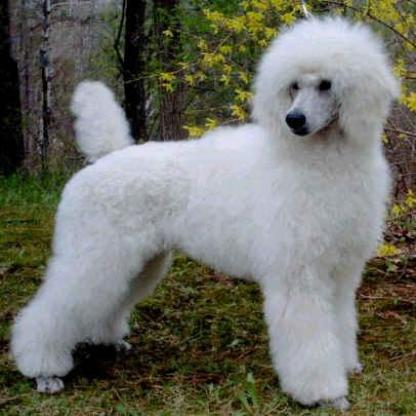standard_poodle: (4, 10, 398, 406)
